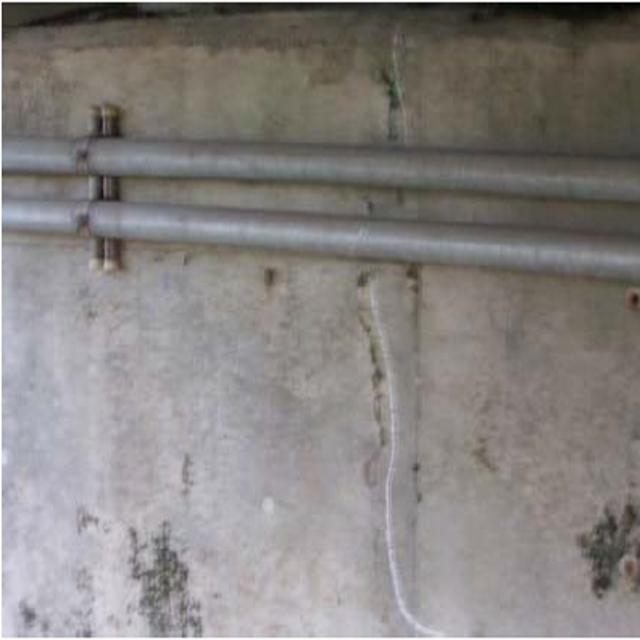crack: (350, 293, 441, 630)
